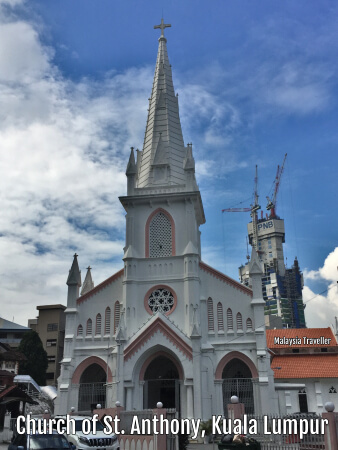Church: (33, 11, 282, 423)
